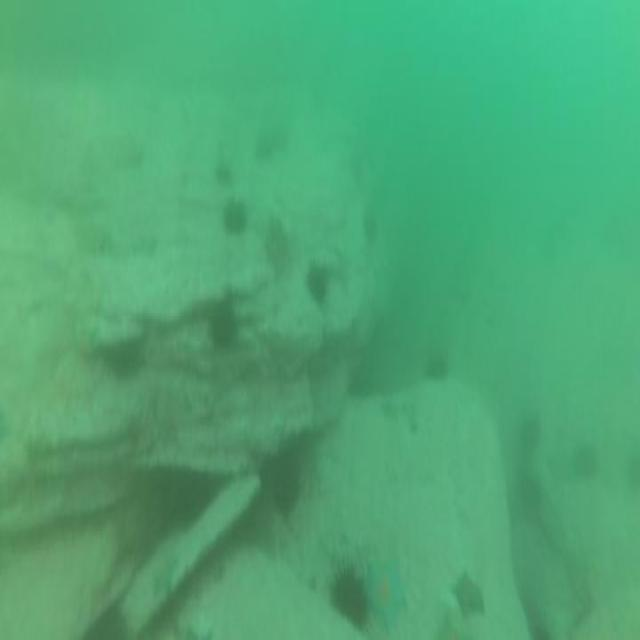echinus: (326, 558, 370, 629), (262, 448, 304, 518), (103, 335, 149, 386), (206, 295, 240, 351), (516, 469, 546, 526), (85, 603, 130, 640), (514, 412, 542, 462), (304, 262, 332, 306), (572, 441, 599, 483), (424, 346, 452, 386), (221, 193, 247, 235), (213, 155, 234, 193), (361, 204, 378, 240)
starfish: (362, 558, 411, 635), (451, 566, 489, 624)
